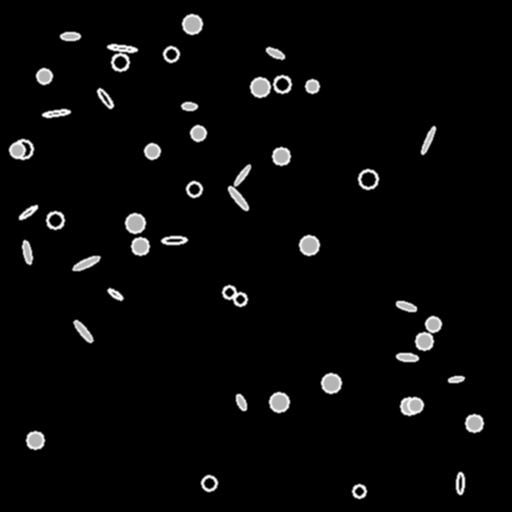pseudomonas: (226, 185, 250, 211), (72, 319, 94, 343), (72, 254, 100, 272), (420, 126, 436, 154), (232, 164, 252, 186), (96, 87, 114, 109), (18, 204, 38, 220), (395, 299, 417, 313), (265, 46, 285, 60), (107, 44, 137, 52), (22, 241, 32, 263), (235, 393, 247, 411), (43, 109, 69, 117), (397, 352, 417, 362), (107, 288, 123, 300), (162, 237, 186, 243), (457, 472, 463, 494), (448, 375, 464, 383), (61, 33, 80, 39), (181, 103, 197, 109)
synechocystis: (270, 393, 288, 411), (300, 236, 318, 254), (322, 374, 340, 392), (183, 15, 201, 33), (359, 170, 377, 188), (14, 140, 32, 158), (251, 78, 269, 96), (126, 214, 144, 232), (416, 333, 432, 349), (27, 432, 43, 448), (466, 415, 482, 431), (112, 54, 128, 70), (401, 398, 417, 414), (132, 238, 148, 254), (274, 76, 290, 92), (273, 148, 289, 164), (47, 212, 63, 228), (37, 69, 51, 83), (191, 126, 205, 140), (426, 317, 440, 331), (202, 476, 216, 490), (408, 398, 422, 412), (187, 182, 201, 196), (145, 144, 159, 158), (164, 47, 178, 61), (10, 143, 24, 157), (353, 485, 365, 497), (234, 293, 246, 305), (306, 80, 318, 92), (223, 286, 235, 298)
